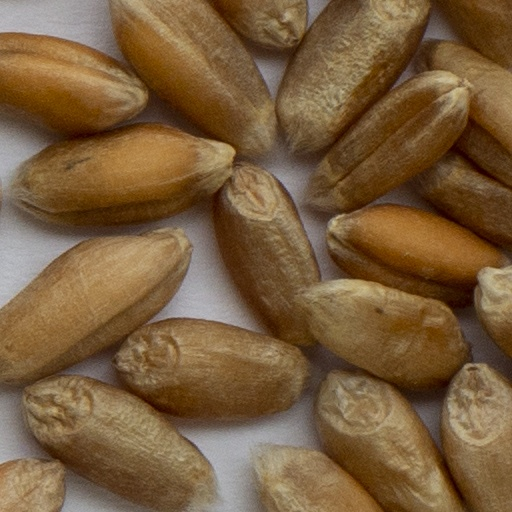Wheat-grain-poly: (0, 227, 196, 387), (22, 376, 222, 511), (309, 367, 462, 511), (113, 317, 312, 427), (291, 274, 474, 386), (436, 362, 511, 511), (249, 440, 385, 511), (0, 453, 68, 511), (471, 265, 511, 363)
